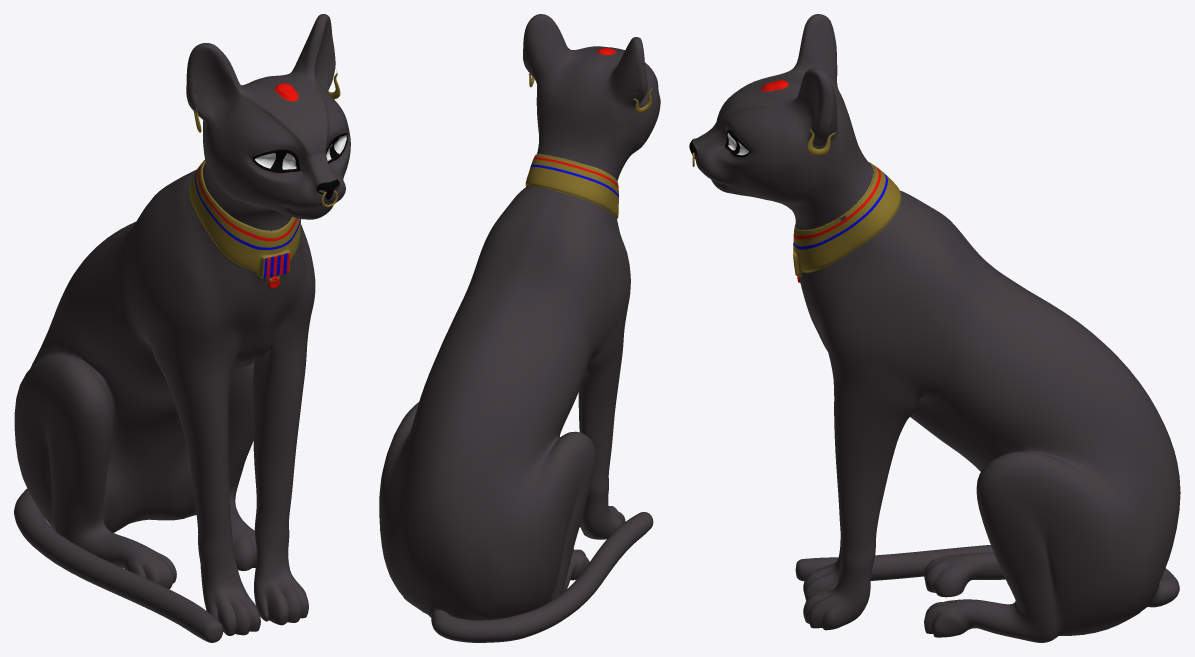
Rendered from BastetCat.fbx.
The picture shows the model from 3 angles, left to right: view 1: azimuth 30°, elevation 25°; view 2: azimuth 150°, elevation 25°; view 3: azimuth 270°, elevation 25°; orthographic projection. The views are drawn at different scales.
Parts seen in each view (by area): view 1: 12332_Bastet_Cat_v2_l2; view 2: 12332_Bastet_Cat_v2_l2; view 3: 12332_Bastet_Cat_v2_l2.
Part boxes in pixels (left/top/right/bottom): 12332_Bastet_Cat_v2_l2: left=14, top=14, right=350, bottom=642; 12332_Bastet_Cat_v2_l2: left=379, top=14, right=660, bottom=642; 12332_Bastet_Cat_v2_l2: left=689, top=14, right=1180, bottom=642.
Bounding box in the file's own units: 1183 × 3243 × 2532.
